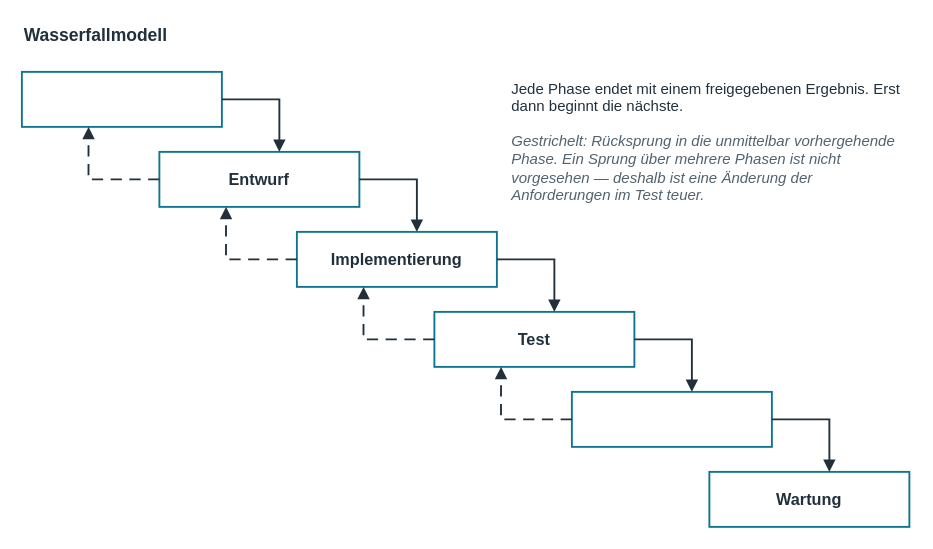
Some shapes in this 933 by 549 pixel diagram are drawn without their labels. The shapes that lost their labels are listed below. From the top down, each one's centre as x and y in pixels, then its label:
At point 121,98: "Analyse (Anforderungen)".
At point 671,418: "Einführung".
